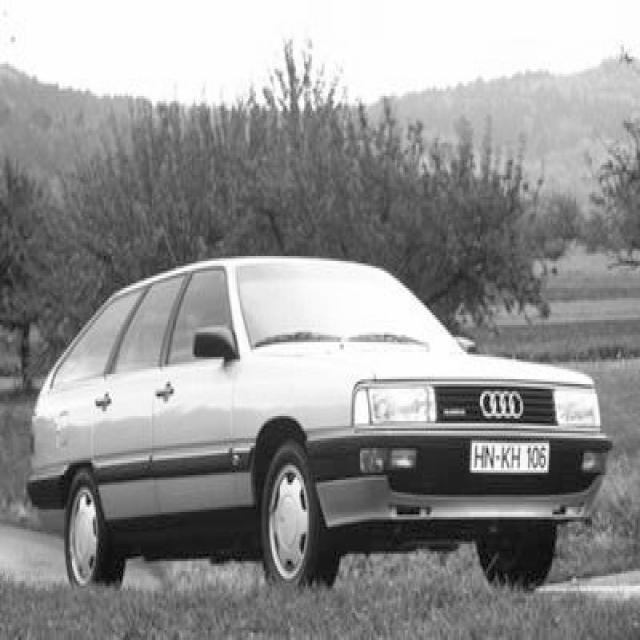car: (24, 254, 613, 593)
plat_license: (469, 438, 550, 473)
